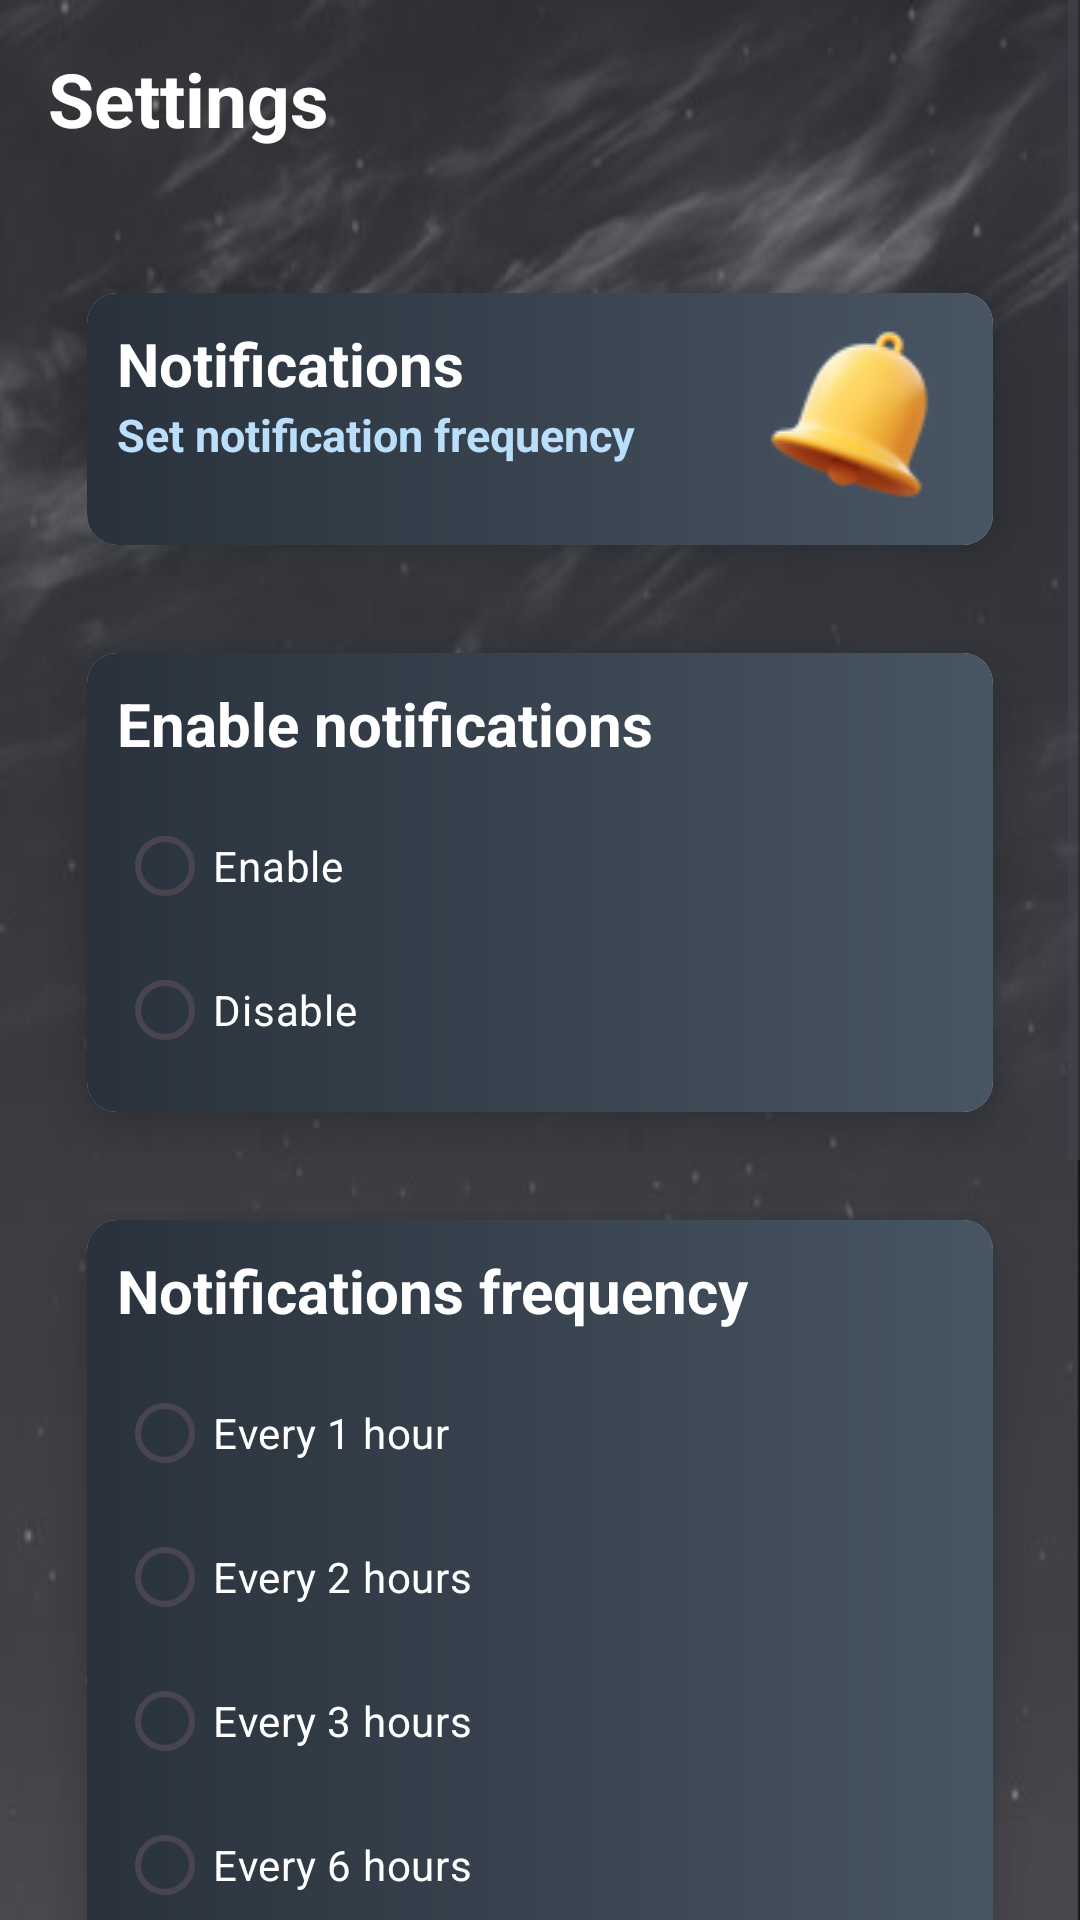

Named icons in this screenshot (1080*1920) and their centers, [x,y]:
bell: [849,414]
